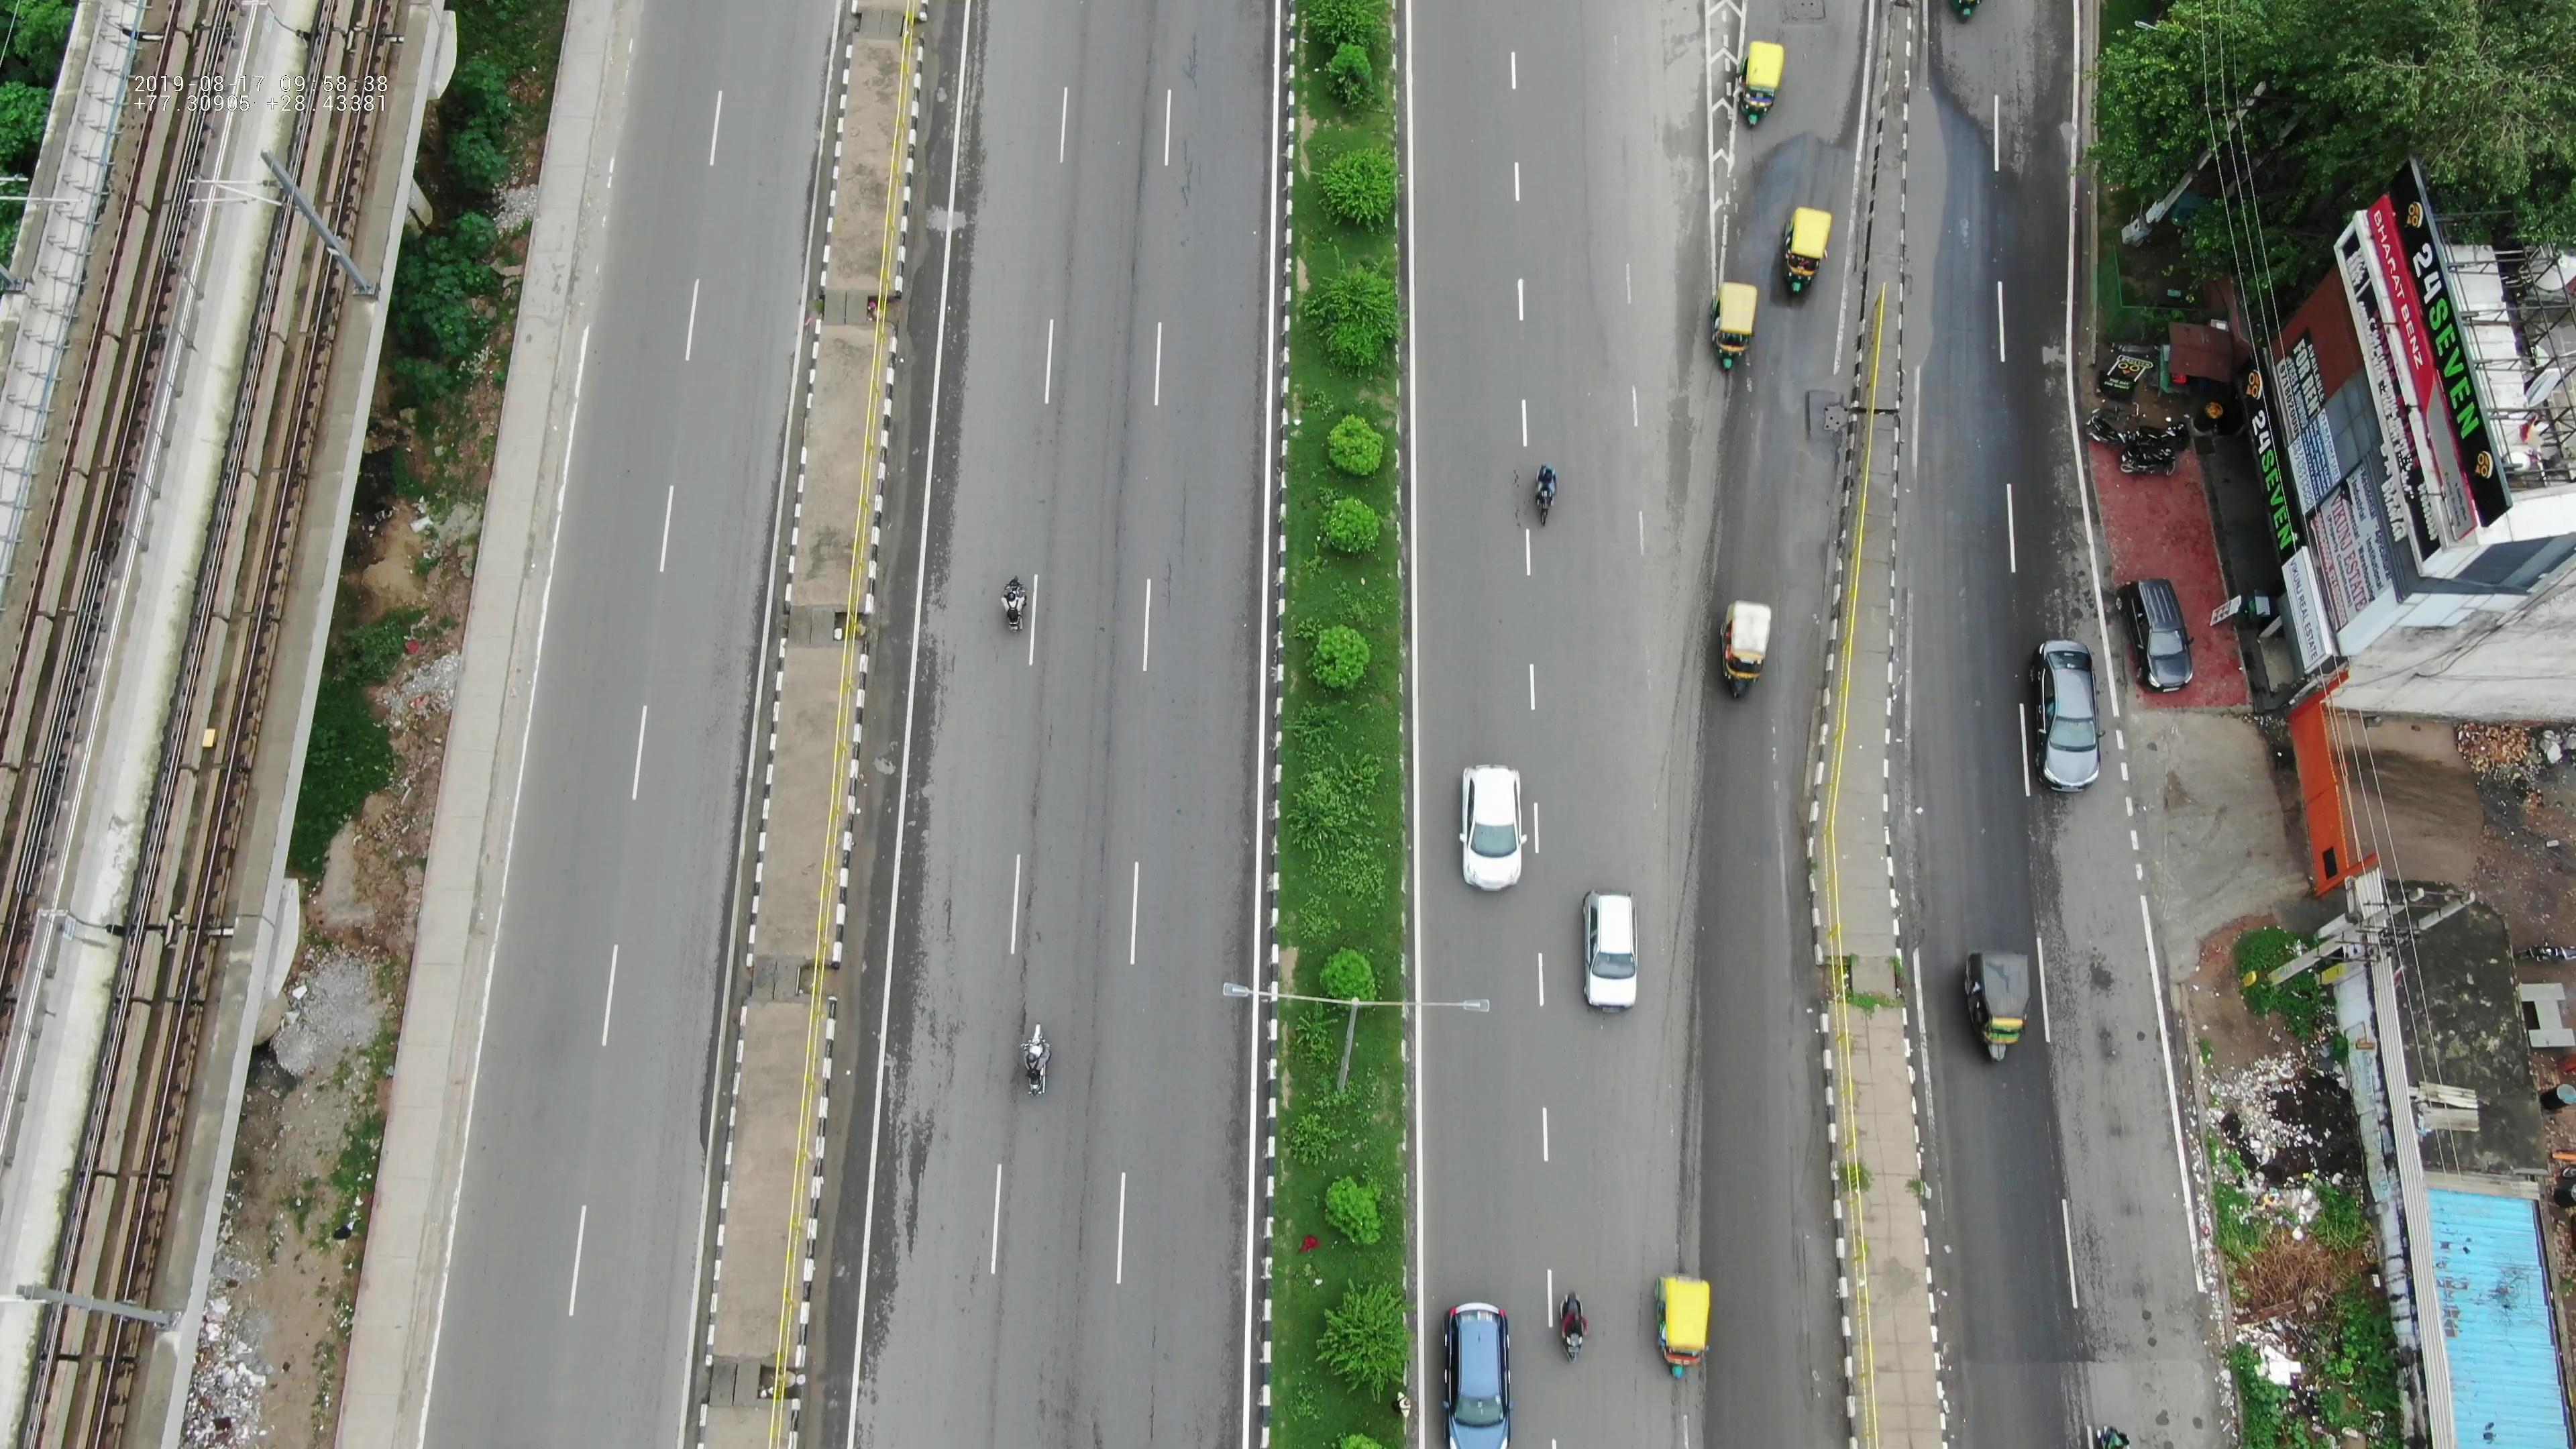Hair_cracks: (1141, 478, 1226, 688), (1152, 23, 1237, 212)
